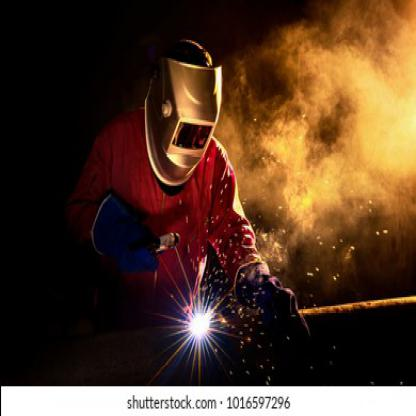glove: (232, 260, 310, 346), (91, 195, 160, 276)
